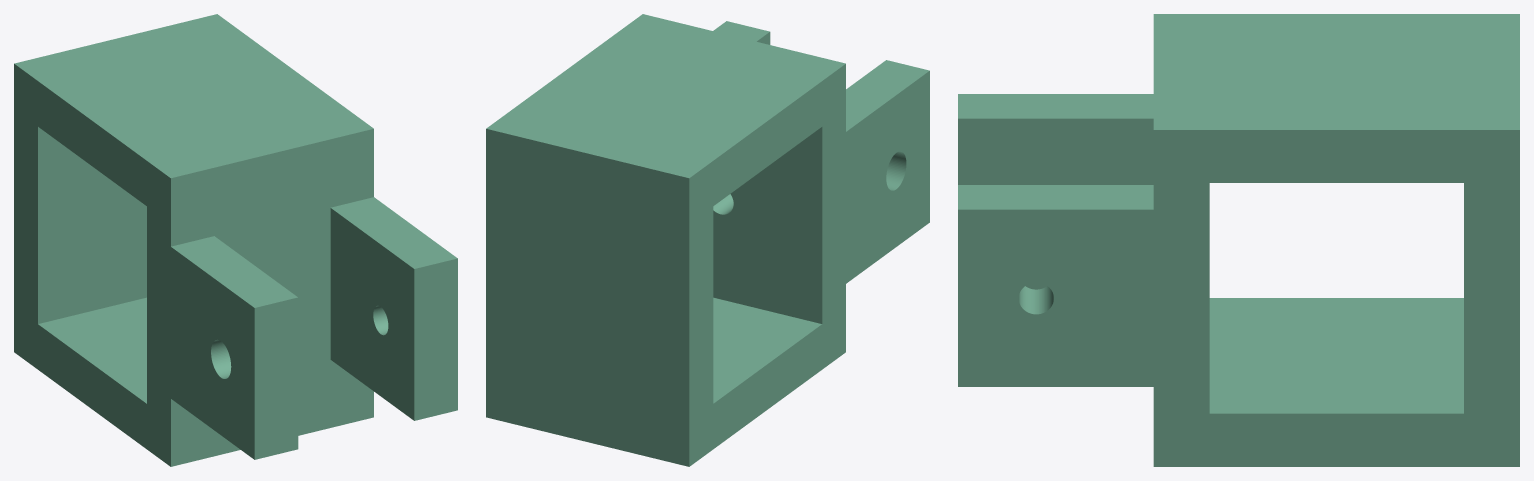
3 views of the same model, side by side, from view 1: azimuth 30°, elevation 25°; view 2: azimuth 150°, elevation 25°; view 3: azimuth 270°, elevation 25° (orthographic). The views are drawn at different scales.
Visible parts, largest first — view 1: F12_sensing_roller_yoke; view 2: F12_sensing_roller_yoke; view 3: F12_sensing_roller_yoke.
Boxes of the visible parts, x1,y1,x2,y2 form: F12_sensing_roller_yoke: [14, 14, 457, 466]; F12_sensing_roller_yoke: [486, 14, 929, 466]; F12_sensing_roller_yoke: [958, 14, 1519, 466].
Bounding box in the file's own units: 14 × 19 × 28.7.
